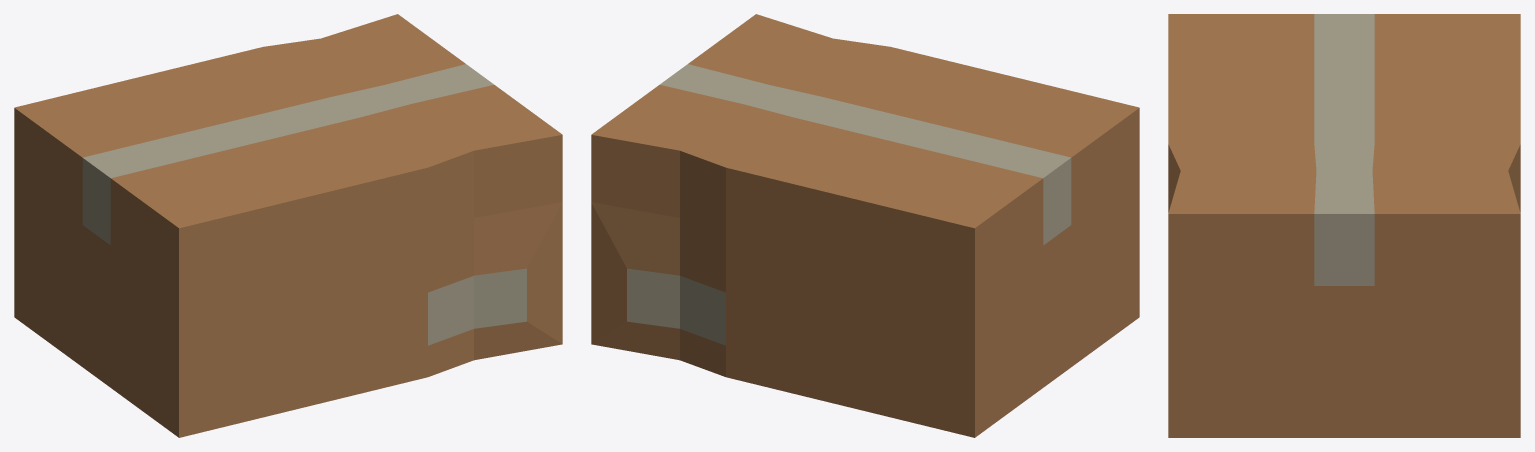
The model's file is CardboardBoxes_1.glb.
3 views of the same model, side by side, from view 1: azimuth 30°, elevation 25°; view 2: azimuth 150°, elevation 25°; view 3: azimuth 270°, elevation 25° (orthographic). The views are drawn at different scales.
Visible parts, largest first — view 1: CardboardBoxes_1; view 2: CardboardBoxes_1; view 3: CardboardBoxes_1.
Part boxes in pixels (box(x1,y1,x2,y2)): CardboardBoxes_1: box(14, 14, 562, 437); CardboardBoxes_1: box(591, 14, 1139, 437); CardboardBoxes_1: box(1168, 14, 1520, 437).
Bounding box in the file's own units: 0.9755 × 0.5093 × 0.7265.
